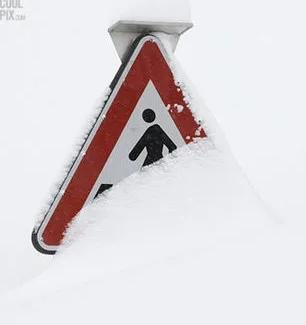obstructed_road_sign: (33, 35, 286, 255)
